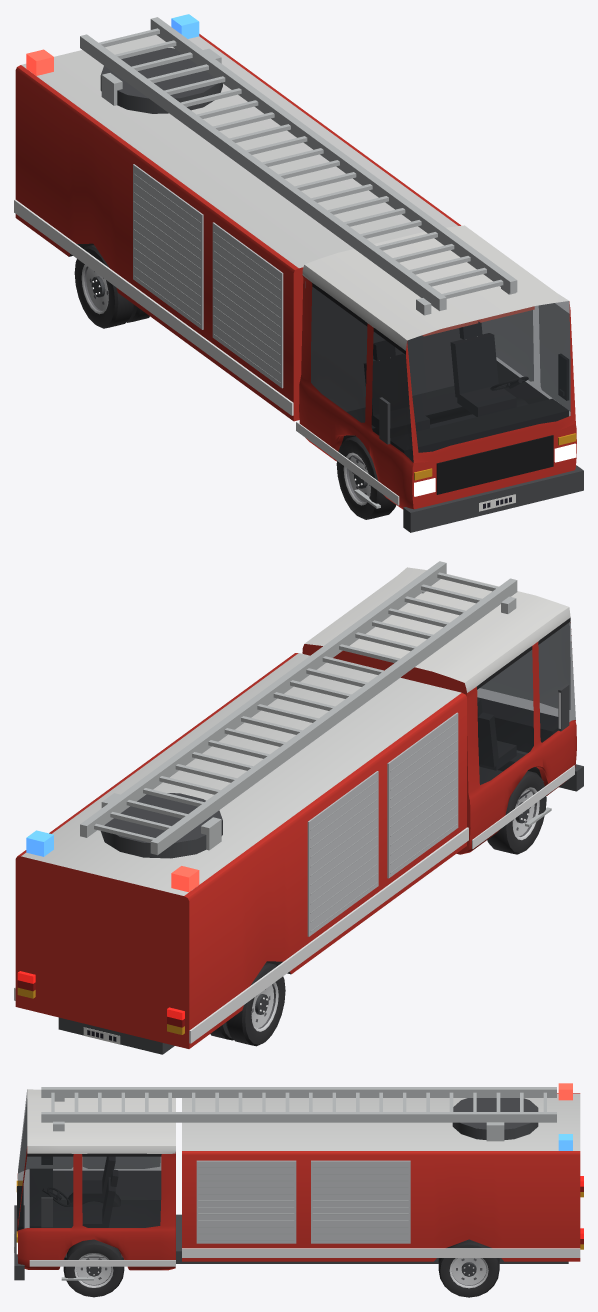
File: firetruck.glb
The picture shows the model from 3 angles, top to bottom: view 1: azimuth 30°, elevation 25°; view 2: azimuth 150°, elevation 25°; view 3: azimuth 270°, elevation 25°; orthographic projection. The views are drawn at different scales.
Visible parts, largest first — view 1: firetruck_body, Wheel_RR, Wheel_FR; view 2: firetruck_body, Wheel_RR, Wheel_FR; view 3: firetruck_body, Wheel_FL, Wheel_RL.
Part boxes in pixels (x1,y1,x2,y2): firetruck_body: (14, 17, 583, 532); Wheel_RR: (74, 244, 149, 328); Wheel_FR: (336, 436, 396, 519); firetruck_body: (14, 561, 583, 1054); Wheel_RR: (210, 962, 285, 1046); Wheel_FR: (487, 771, 546, 854); firetruck_body: (14, 1087, 583, 1280); Wheel_FL: (63, 1239, 124, 1297); Wheel_RL: (438, 1239, 499, 1297).
Bounding box in the file's own units: 0.1285 × 0.158 × 0.4862.
Materials: 8 (1 with a texture image).
